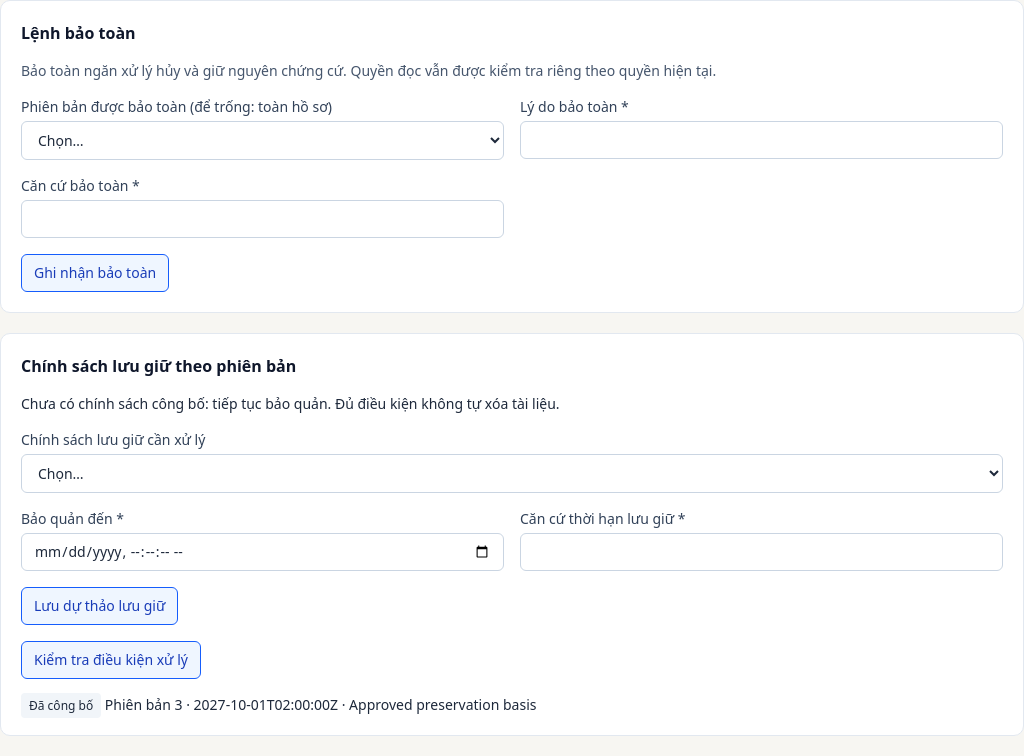
Test: reports retention eligibility false without automatically disposing files
Click the button "Kiểm tra điều kiện xử lý". click: (111, 660)
box: x1=21 y1=641 x2=201 y2=679
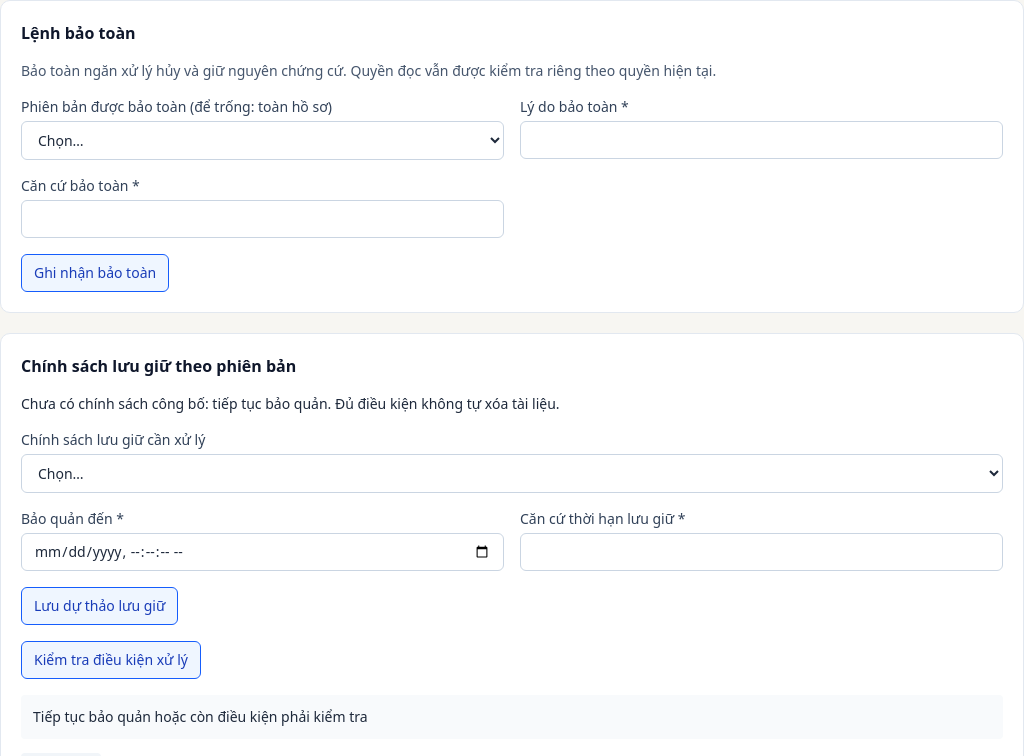
Check: the message shows "Tiếp tục bảo quản", box x1=33 y1=707 x2=368 y2=726
